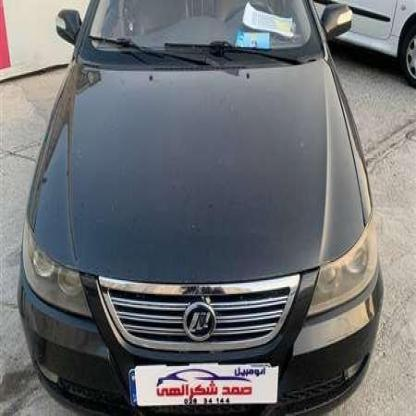Car: (24, 0, 388, 416), (284, 0, 416, 82)
